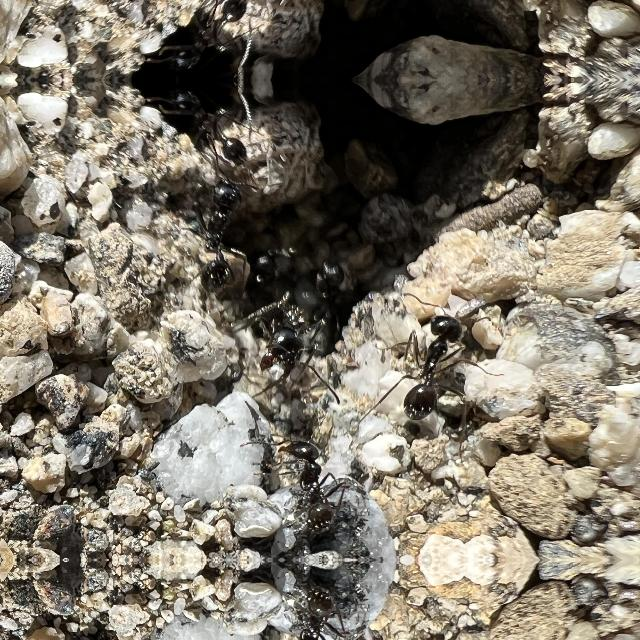Messor: (382, 306, 482, 442), (148, 80, 268, 170), (148, 0, 268, 80), (268, 429, 346, 539), (253, 263, 325, 381), (191, 176, 247, 304), (268, 581, 346, 640)
